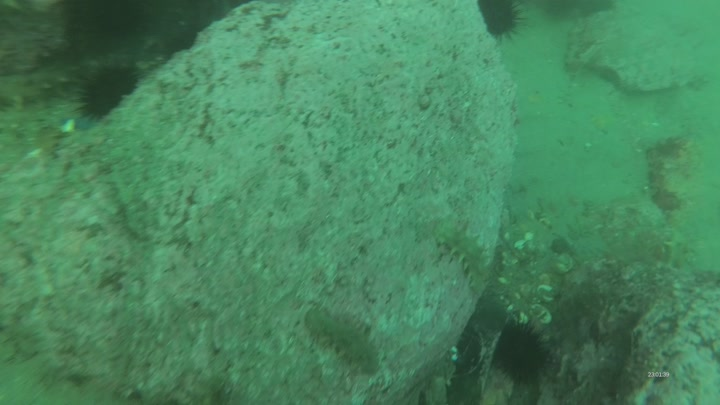echinus: (72, 61, 151, 126), (491, 319, 554, 387), (475, 1, 526, 46)
holothurian: (303, 304, 381, 380), (438, 216, 493, 289)
